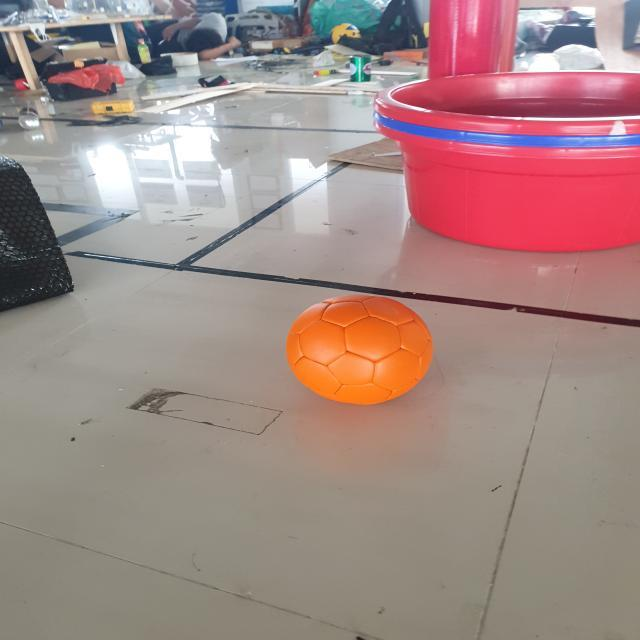bola: (282, 288, 436, 408)
